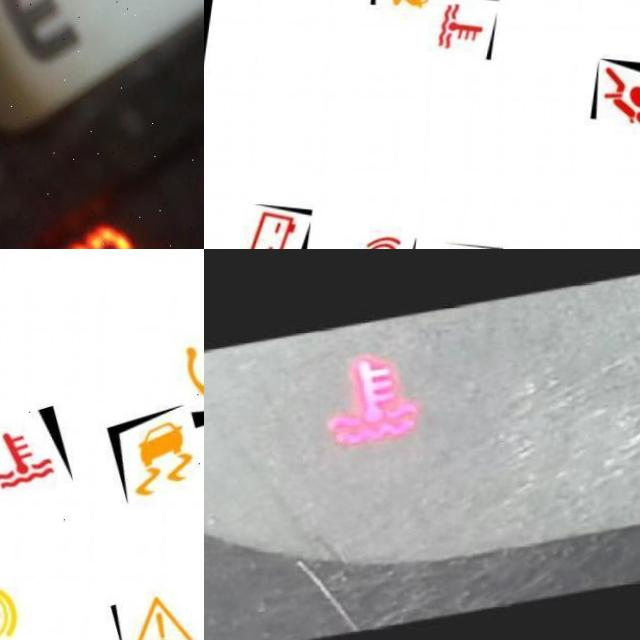Engine cooling system: (313, 347, 428, 458)
Washer Fluid: (50, 219, 177, 249)
